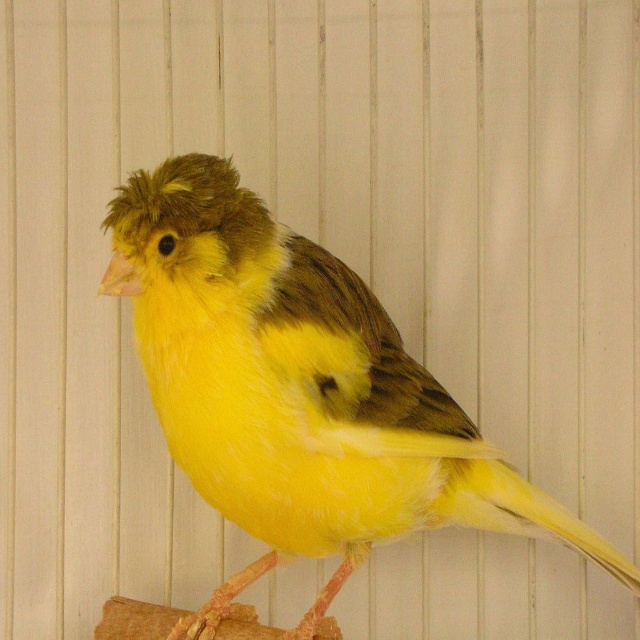Canary: (97, 149, 640, 639)
